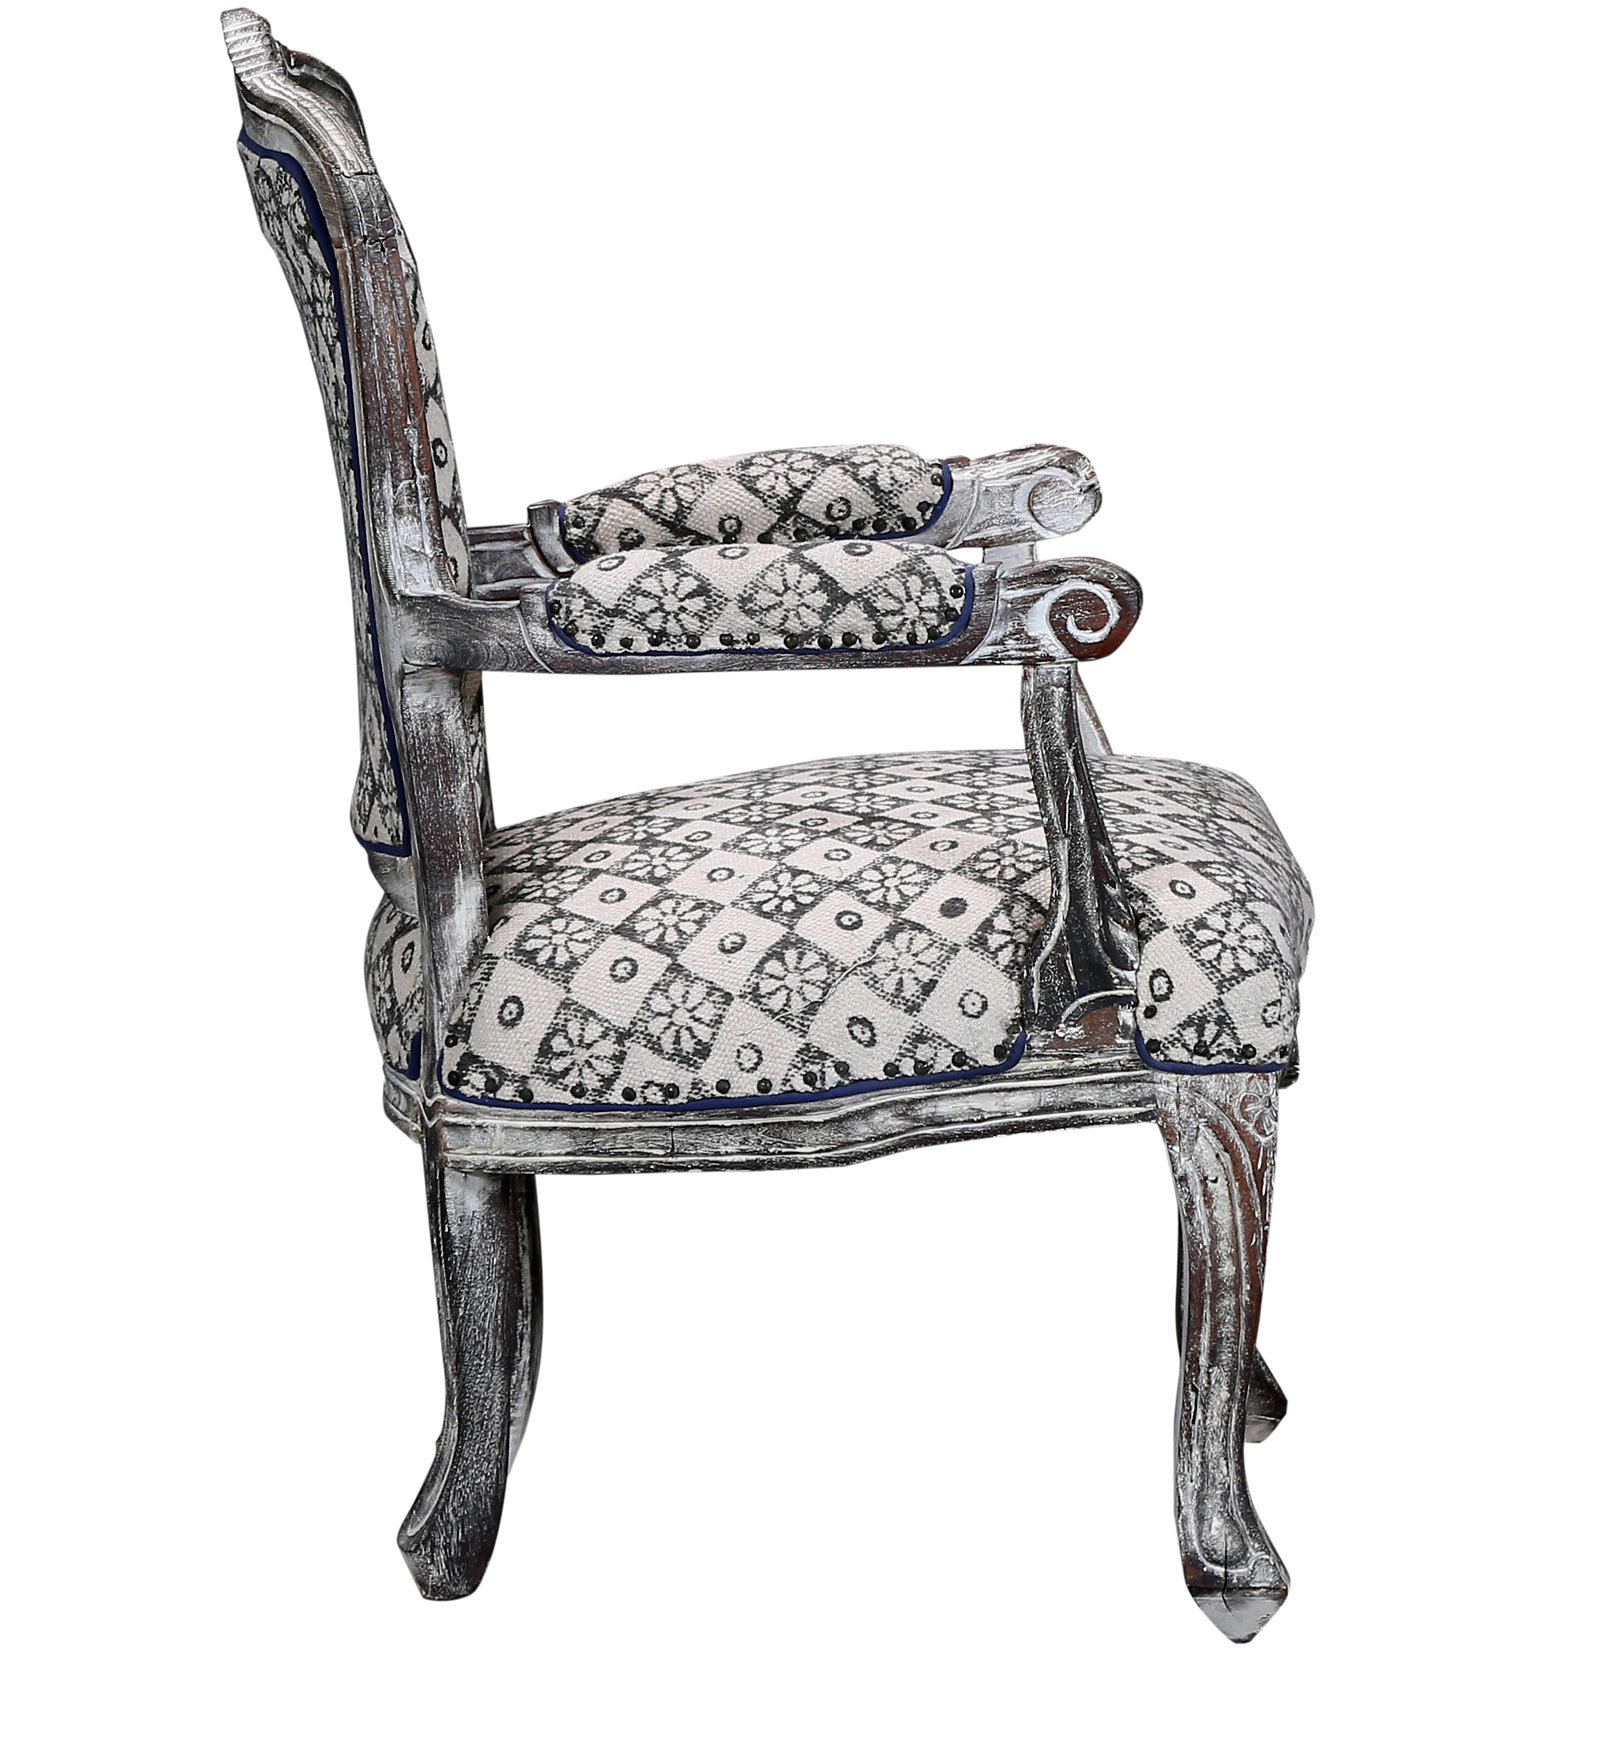Elton Arm Chair in Grey Colour by Bohemiana: (129, 5, 1428, 1680)
